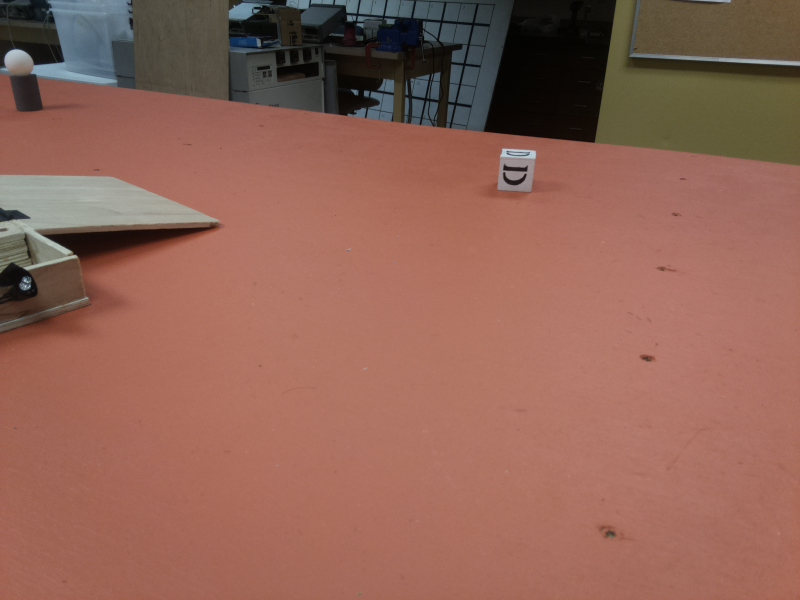blockA: (6, 49, 38, 116)
blockD: (498, 147, 536, 198)
side: (1, 233, 89, 331)
slope: (1, 166, 226, 238)
